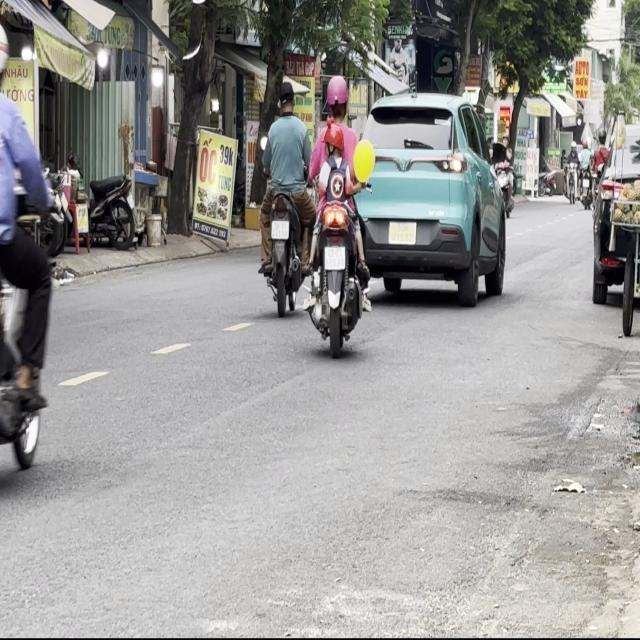helmet: (324, 74, 349, 120), (322, 120, 346, 159)
licenseplate: (306, 72, 371, 355), (255, 76, 314, 314)
motorcyclist: (278, 80, 296, 117)
nohelmet: (324, 245, 345, 270), (271, 219, 288, 237)
